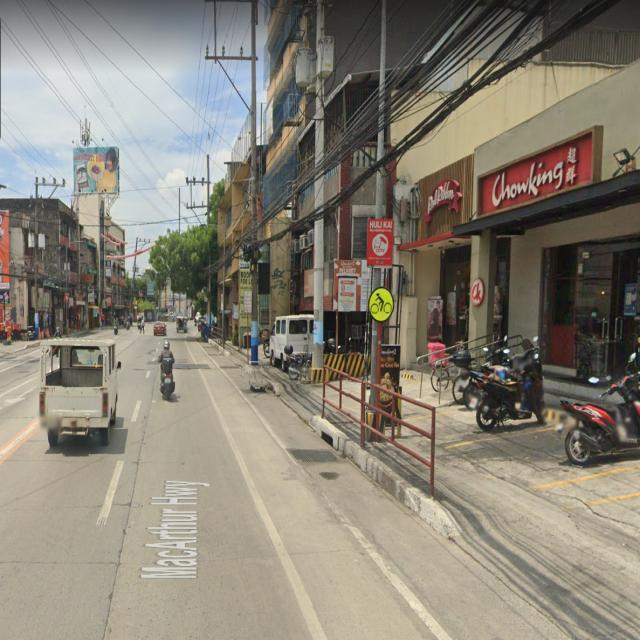bike lane: (364, 283, 402, 330)
